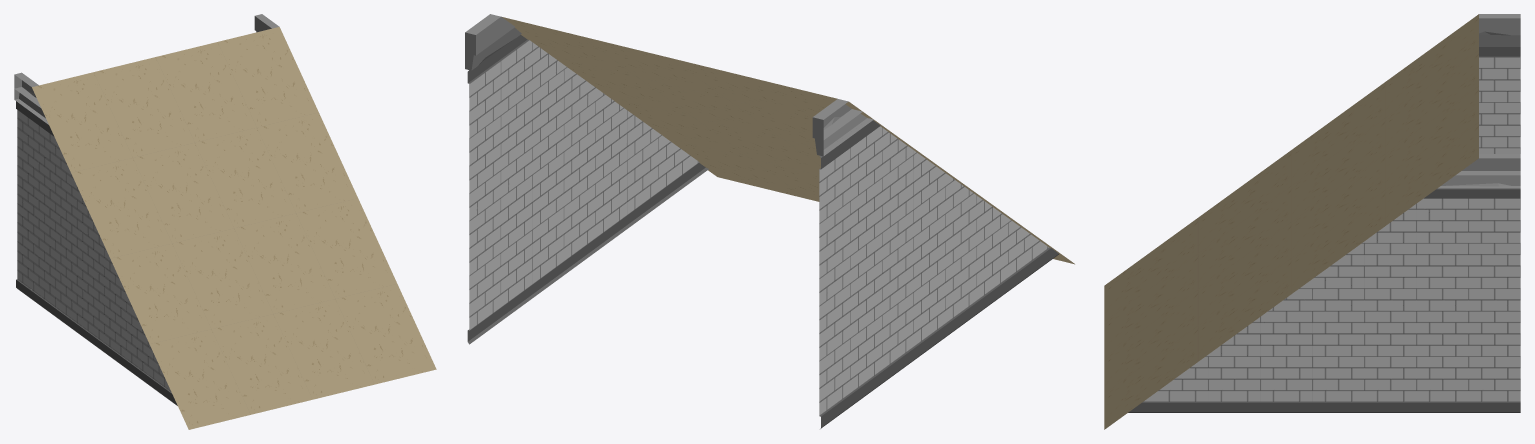
File: SW_ENV_StationStair_Long_Surround_Upper_FF.fbx
3 renders of one model, left to right at view 1: azimuth 30°, elevation 25°; view 2: azimuth 150°, elevation 25°; view 3: azimuth 270°, elevation 25°, orthographic. The views are drawn at different scales.
Visible parts, largest first — view 1: SW_ENV_StationStair_Long_Surround_Upper_FF; view 2: SW_ENV_StationStair_Long_Surround_Upper_FF; view 3: SW_ENV_StationStair_Long_Surround_Upper_FF.
Part boxes in pixels (x1,y1,x2,y2): SW_ENV_StationStair_Long_Surround_Upper_FF: (14,14,436,429); SW_ENV_StationStair_Long_Surround_Upper_FF: (465,14,1074,428); SW_ENV_StationStair_Long_Surround_Upper_FF: (1104,14,1520,429).
Bounding box in the file's own units: 410 × 360 × 500.
